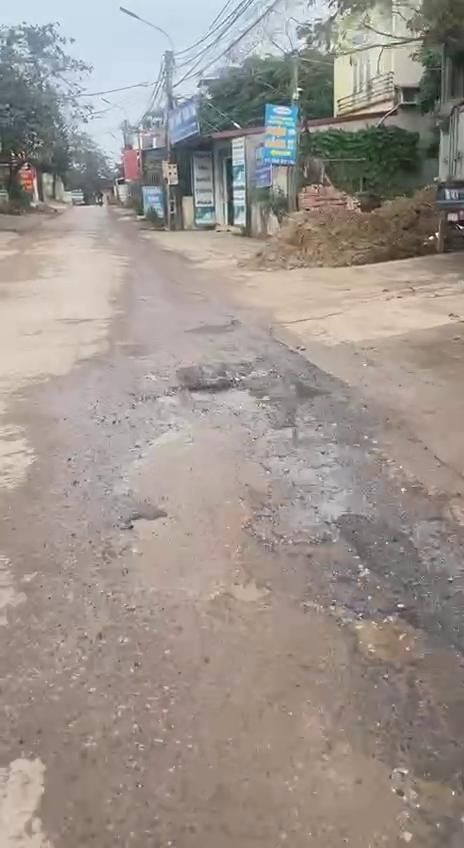pothole: (103, 376, 296, 611), (306, 592, 464, 848)
